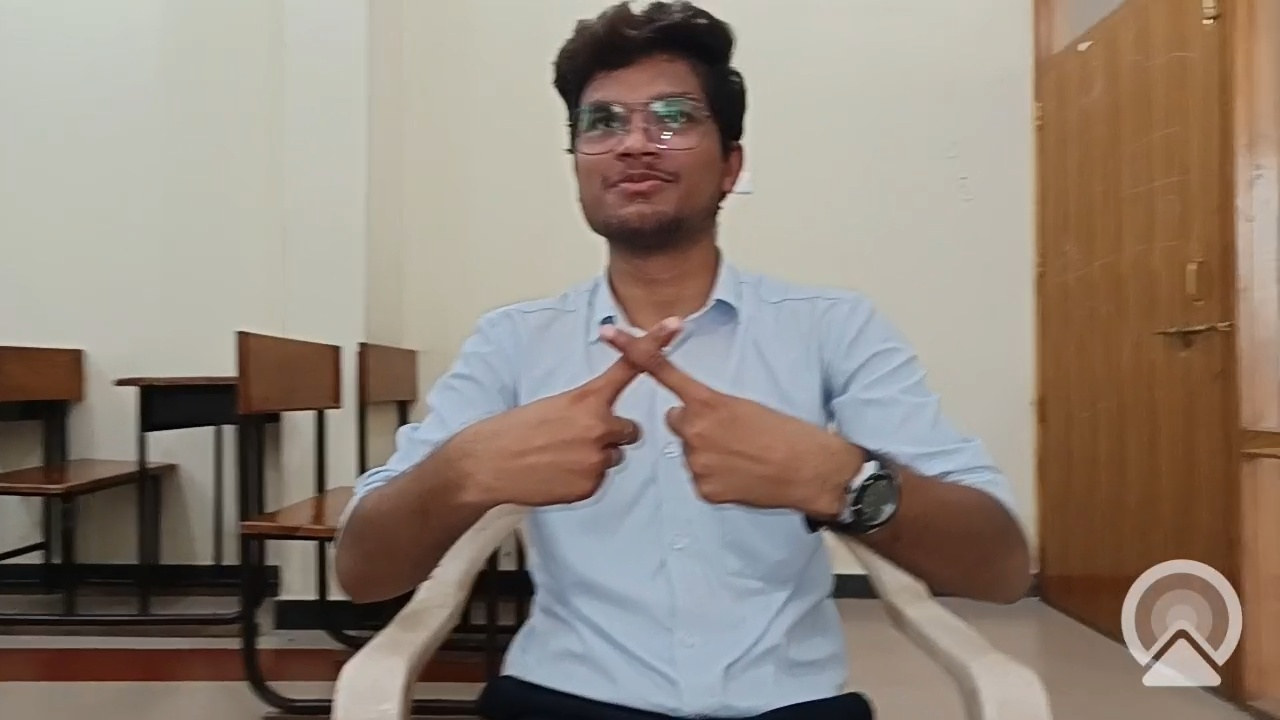X: (428, 306, 780, 574)
